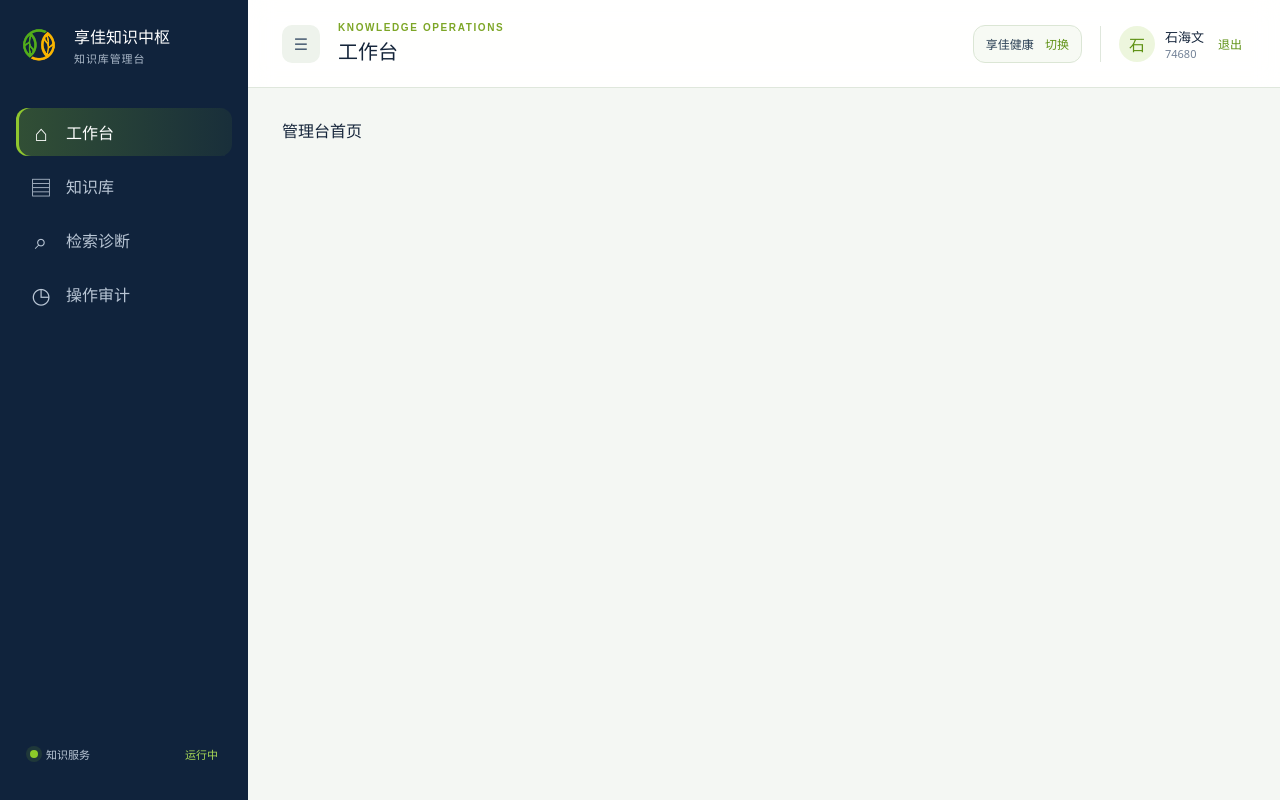
Test: AdminLayout tenant context › opens the available tenant dropdown from the switch button for a multi-role super admin
Expected: the element with class "brand-copy" shows "知识库管理台", left=74, top=51, right=145, bottom=66
What coordinates should you click on to do the following:
click the button with class "tenant-chip"
I would click on:
 (1027, 44)
Its box is left=973, top=24, right=1082, bottom=62.
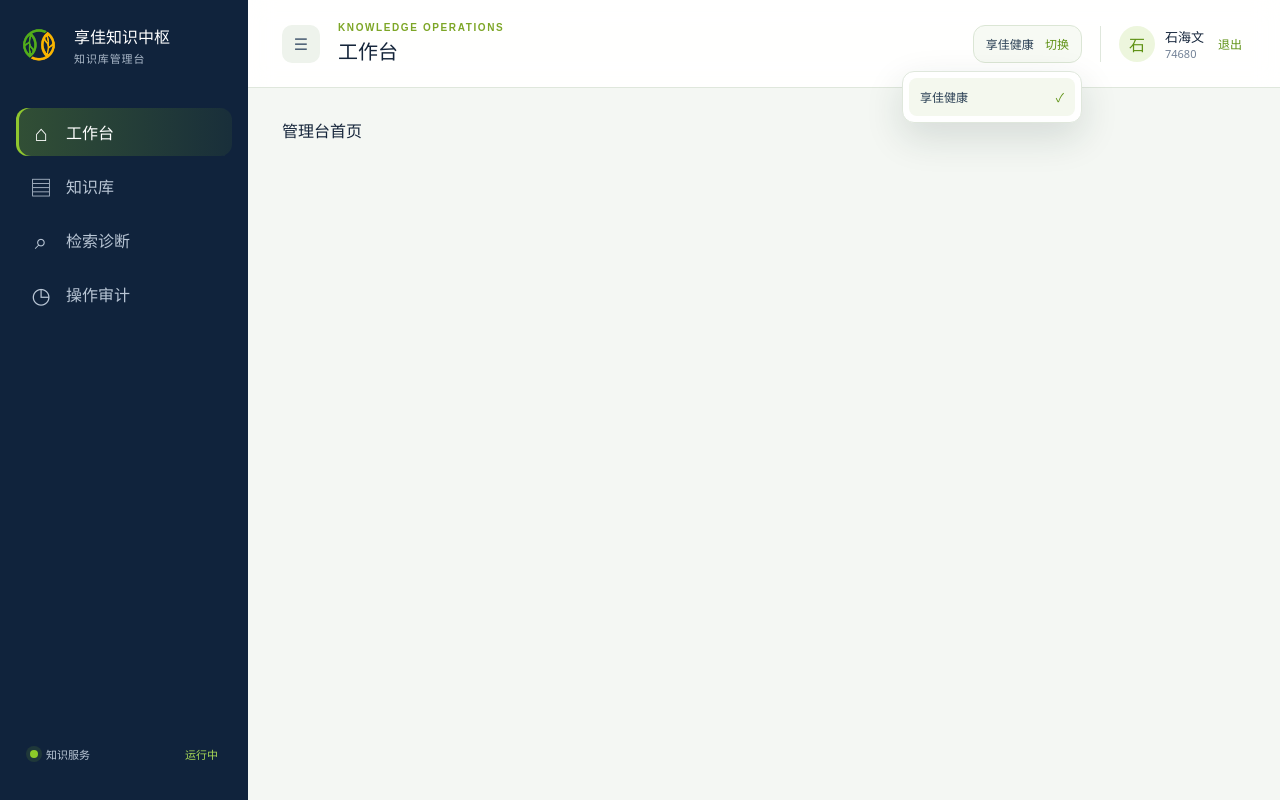
Expected: the number of menu items with class "tenant-option" is 1, left=909, top=78, right=1075, bottom=116
Expected: the menu item with class "tenant-option" shows "享佳健康", left=909, top=78, right=1075, bottom=116
